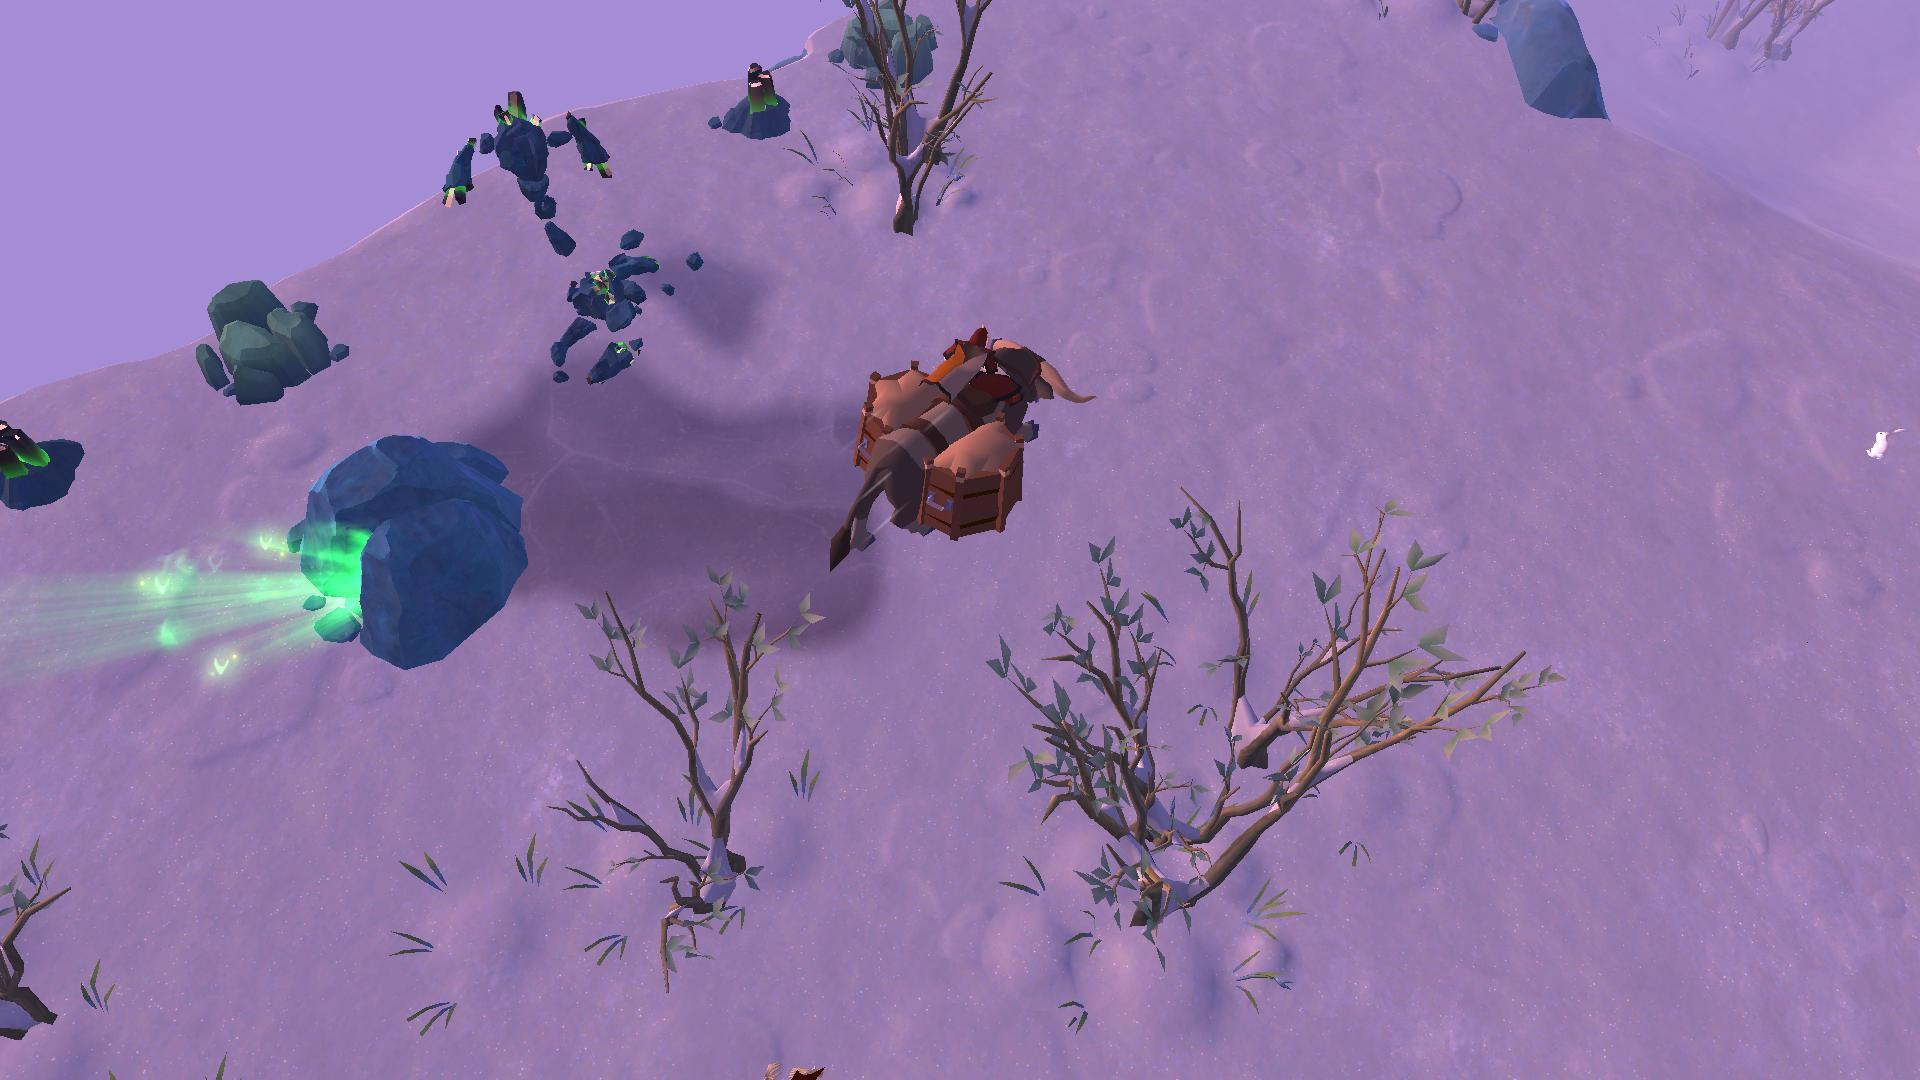ore_t3: (0, 419, 61, 476), (735, 55, 781, 117)
rock_t3: (187, 269, 349, 398), (829, 0, 943, 88)
